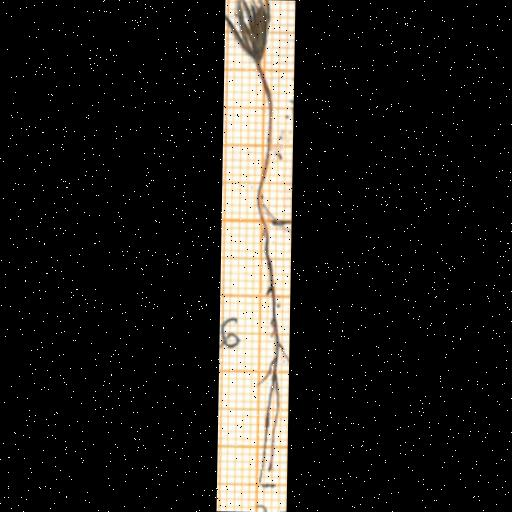flowerPinus: (225, 0, 271, 65)
rootPinus: (257, 225, 289, 483)
stemPinus: (257, 63, 274, 223)
